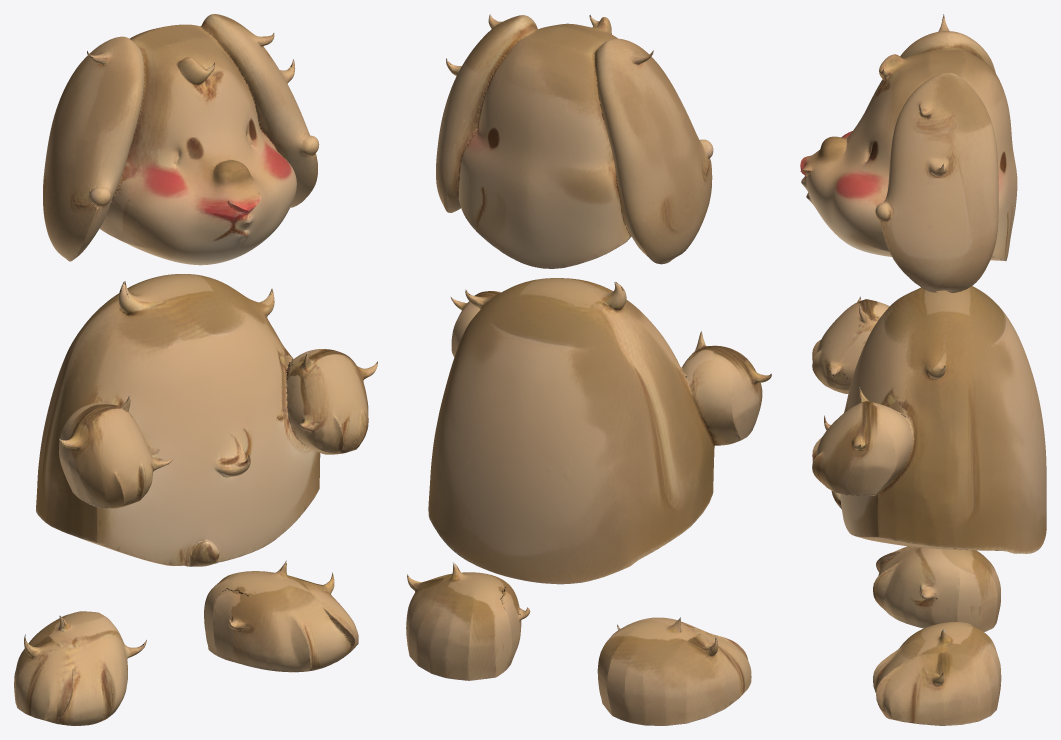
File: player_ai_generated.glb
3 views of the same model, side by side, from view 1: azimuth 30°, elevation 25°; view 2: azimuth 150°, elevation 25°; view 3: azimuth 270°, elevation 25° (orthographic). The views are drawn at different scales.
Visible parts, largest first — view 1: model; view 2: model; view 3: model.
Boxes of the visible parts, x1,y1,x2,y2 form: model: (14,14,377,725); model: (406,14,771,725); model: (800,14,1046,725).
Bounding box in the file's own units: 0.9768 × 1.9 × 0.692.
Materials: 1 (1 with a texture image).
